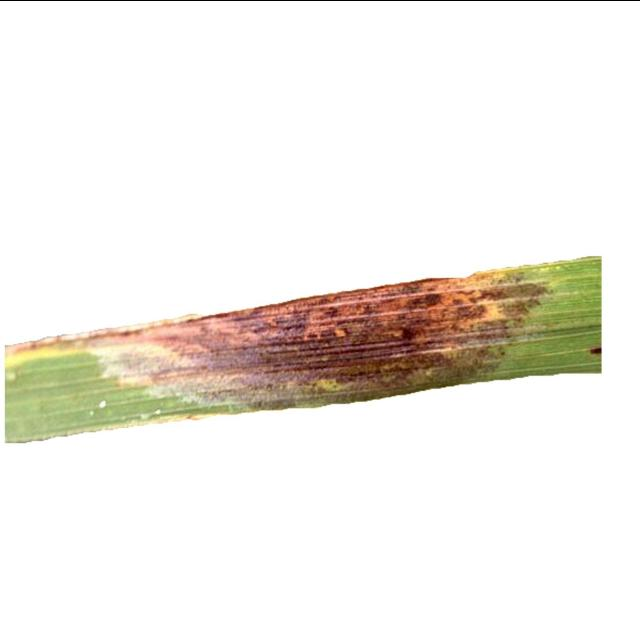Leaf scald: (0, 109, 637, 474)
